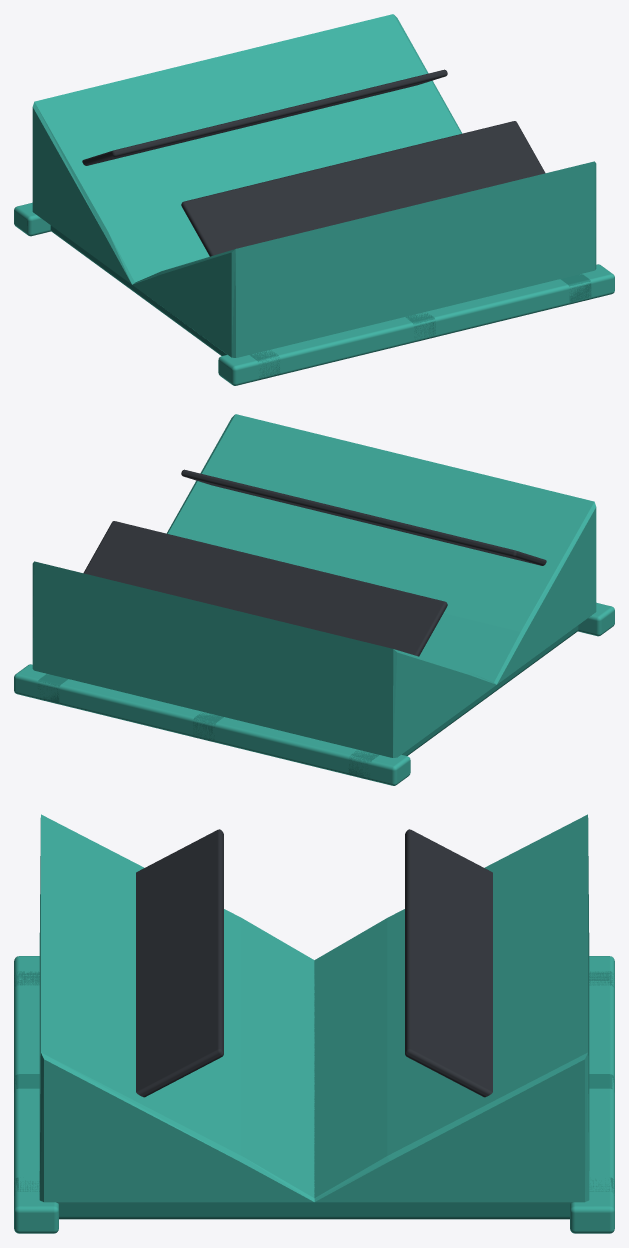
File: berco_bobina.glb
3 renders of one model, top to bottom at view 1: azimuth 30°, elevation 25°; view 2: azimuth 150°, elevation 25°; view 3: azimuth 270°, elevation 25°, orthographic. The views are drawn at different scales.
Parts seen in each view (by area): view 1: cunha (×2), borracha (×2), base (×2), travessa (×2); view 2: cunha (×2), borracha (×2), base (×2), travessa; view 3: cunha (×2), borracha (×2), base (×2), travessa (×3).
Part boxes in pixels (x1,y1,x2,y2): cunha (×2): [32, 14, 596, 357]; borracha (×2): [82, 69, 545, 256]; base (×2): [14, 202, 614, 385]; travessa (×2): [50, 225, 591, 380]; cunha (×2): [32, 414, 596, 757]; borracha (×2): [83, 469, 546, 656]; base (×2): [14, 602, 614, 785]; travessa: [348, 625, 578, 780]; cunha (×2): [39, 814, 589, 1204]; borracha (×2): [136, 829, 492, 1097]; base (×2): [14, 956, 614, 1233]; travessa (×3): [14, 971, 614, 1219].
Size of the model in its own units: 1.6 by 0.5147 by 1.6.
